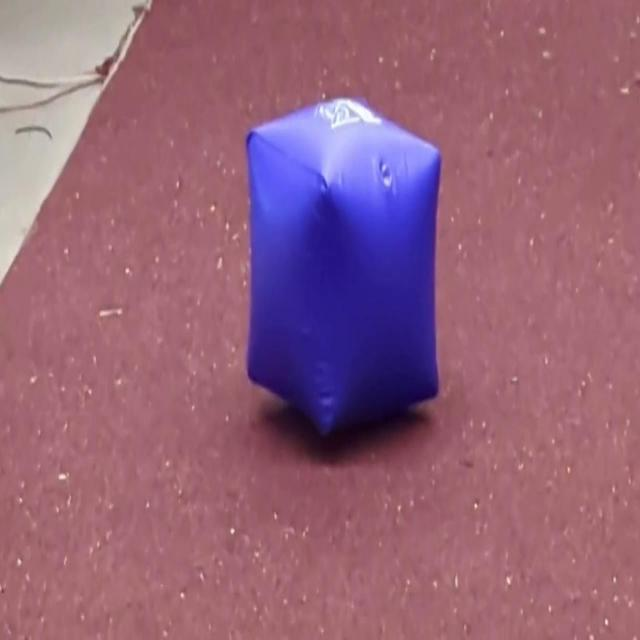frc_cube: (241, 92, 443, 446)
